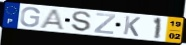1: (151, 17, 162, 40)
A: (39, 9, 67, 31)
G: (19, 6, 41, 28)
K: (122, 15, 142, 38)
S: (71, 11, 93, 33)
Z: (93, 12, 117, 36)
